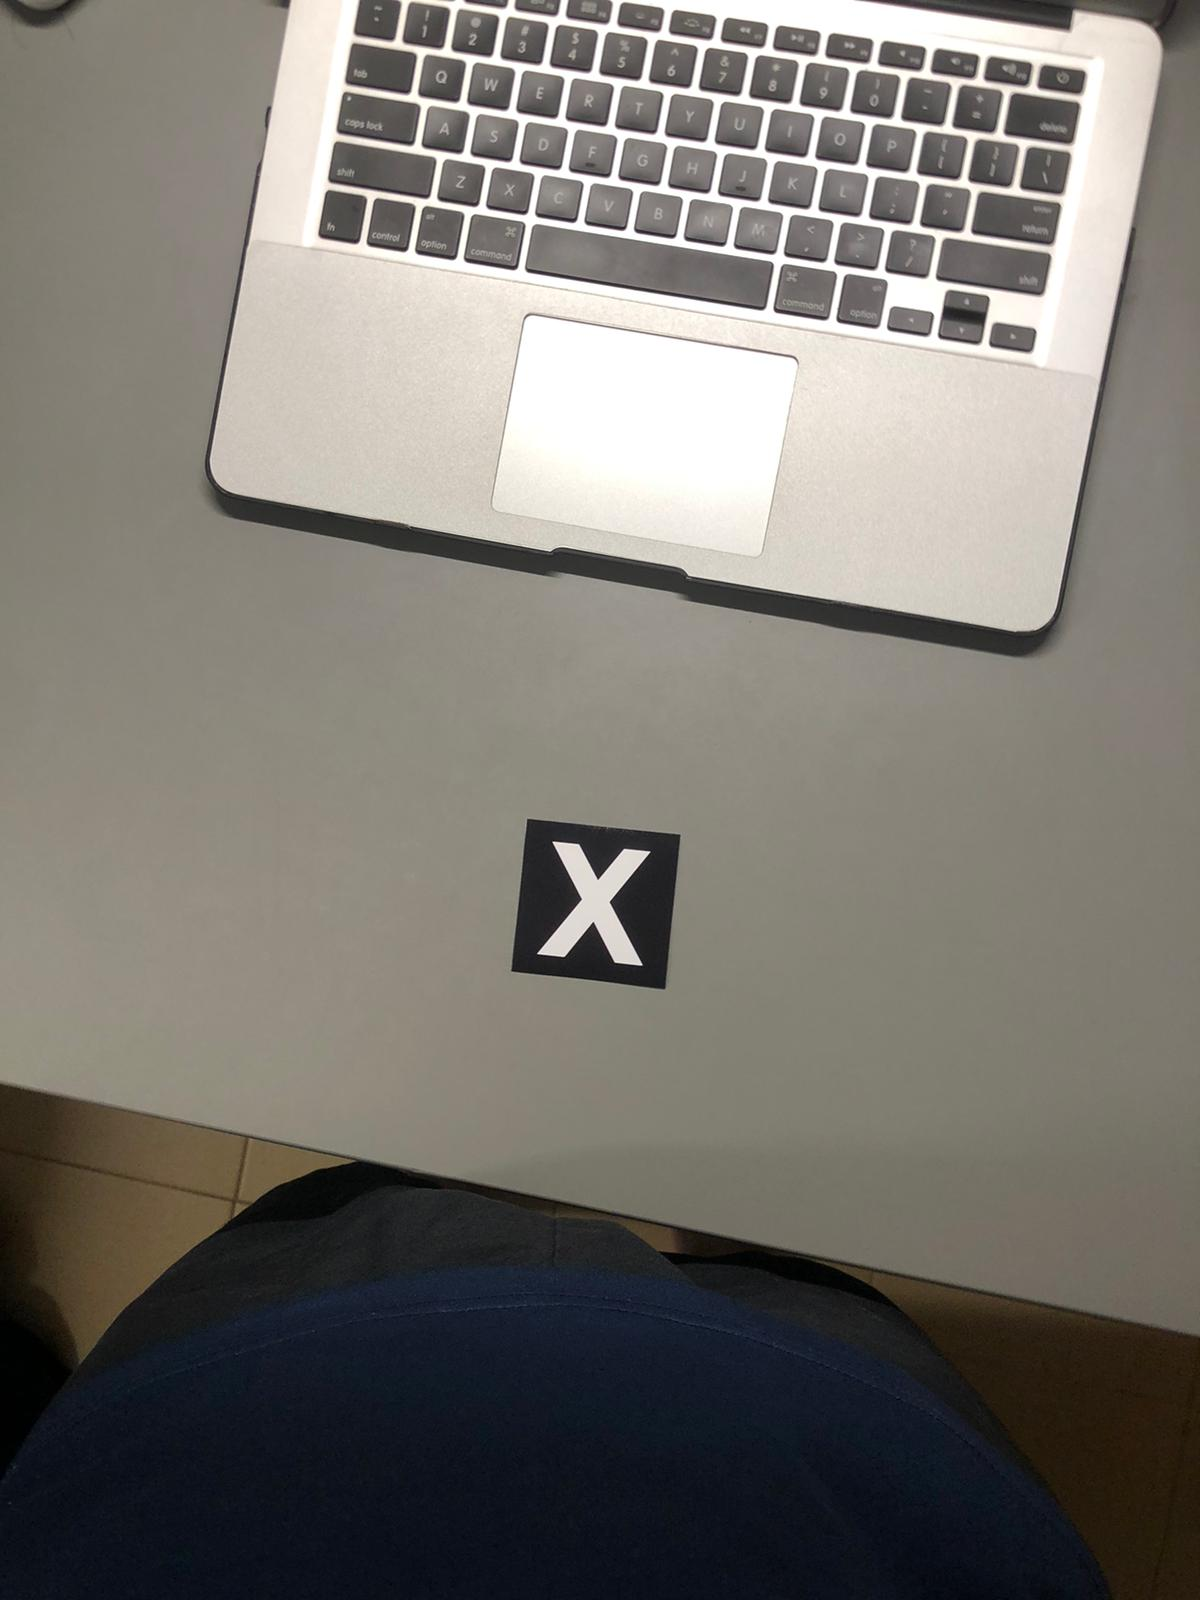X: (522, 819, 666, 995)
